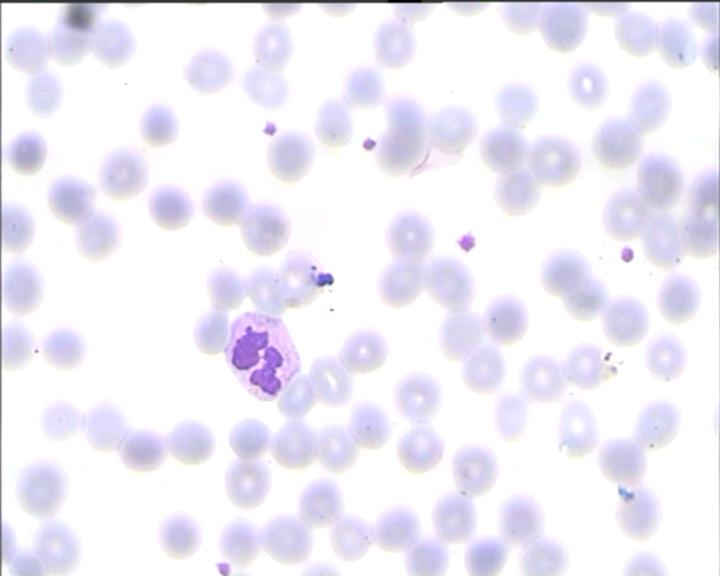neut: (217, 312, 306, 401)
